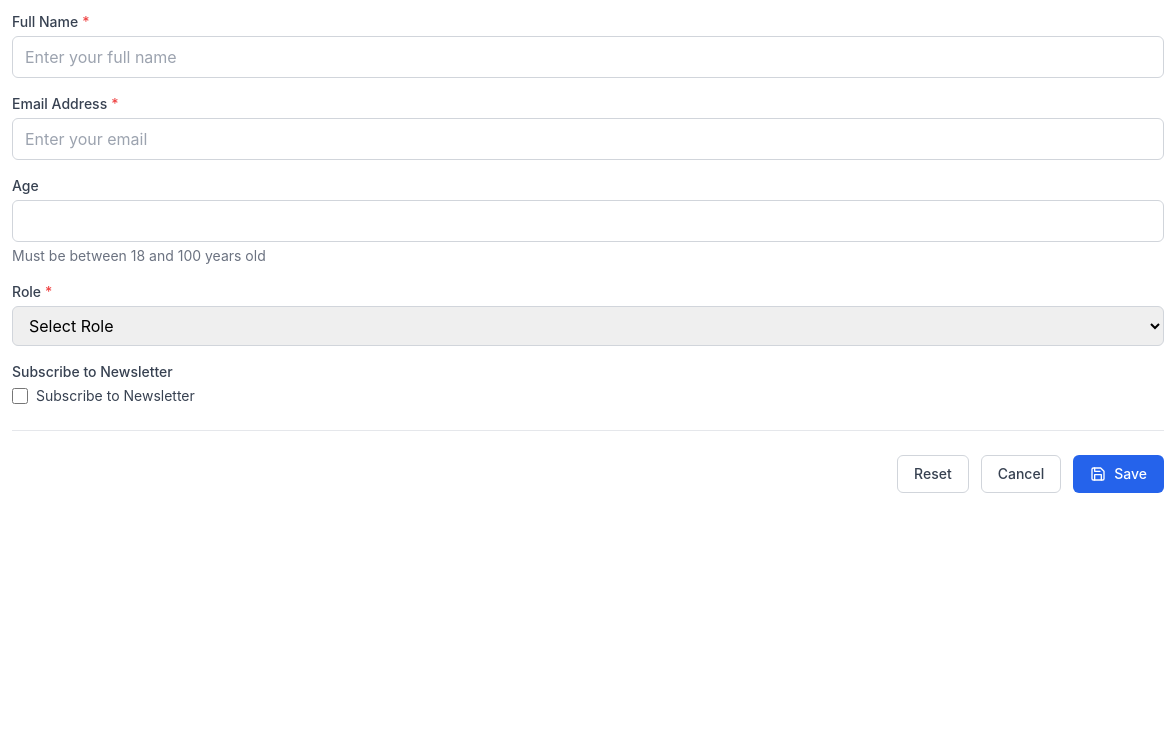
Test case: SimpleForm › handles custom validation messages
In the field labelled "Email Address*": [588, 139] box [12, 118, 1164, 160], type "invalid-email"
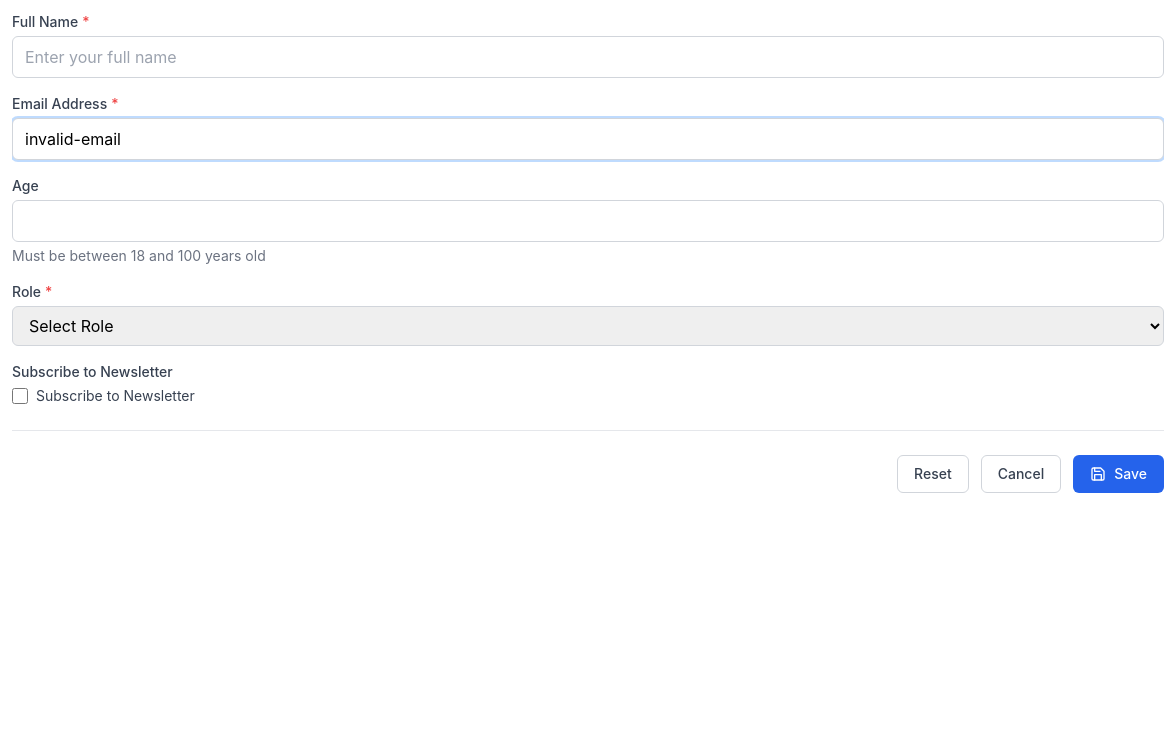
Leave the field labelled "Email Address*", box [12, 118, 1164, 160]
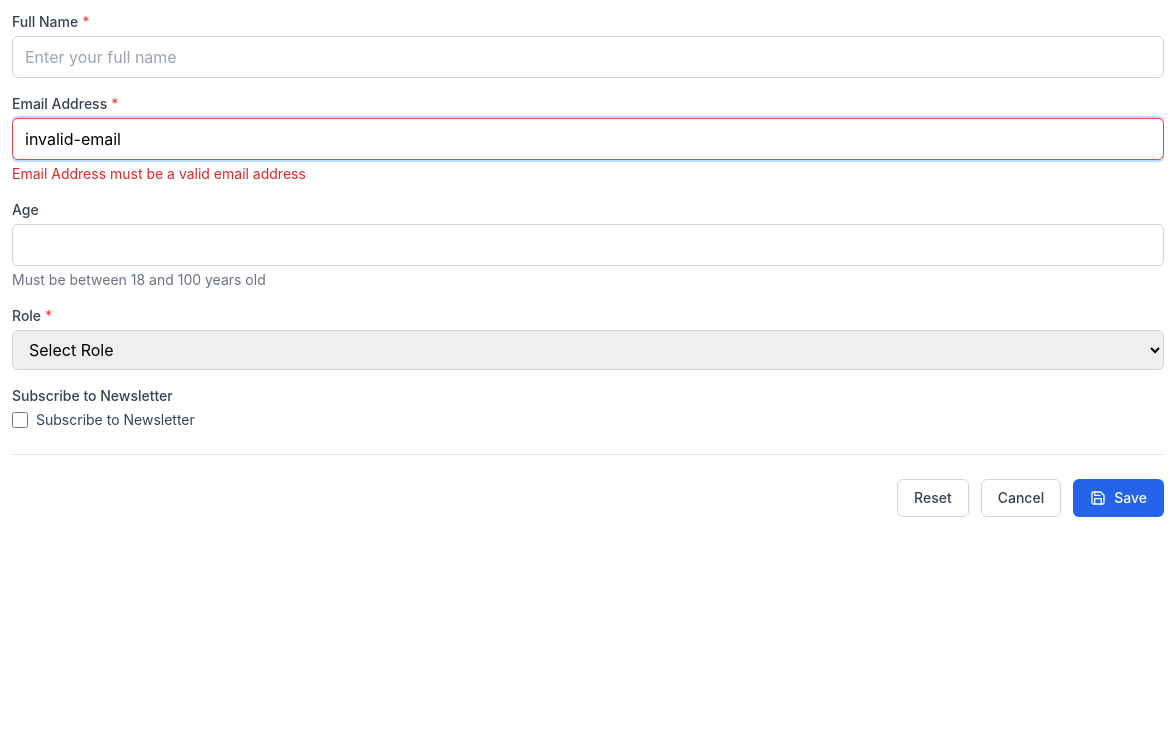
Expected: the text "Email Address must be a valid email address" is shown, [12, 165, 306, 182]
